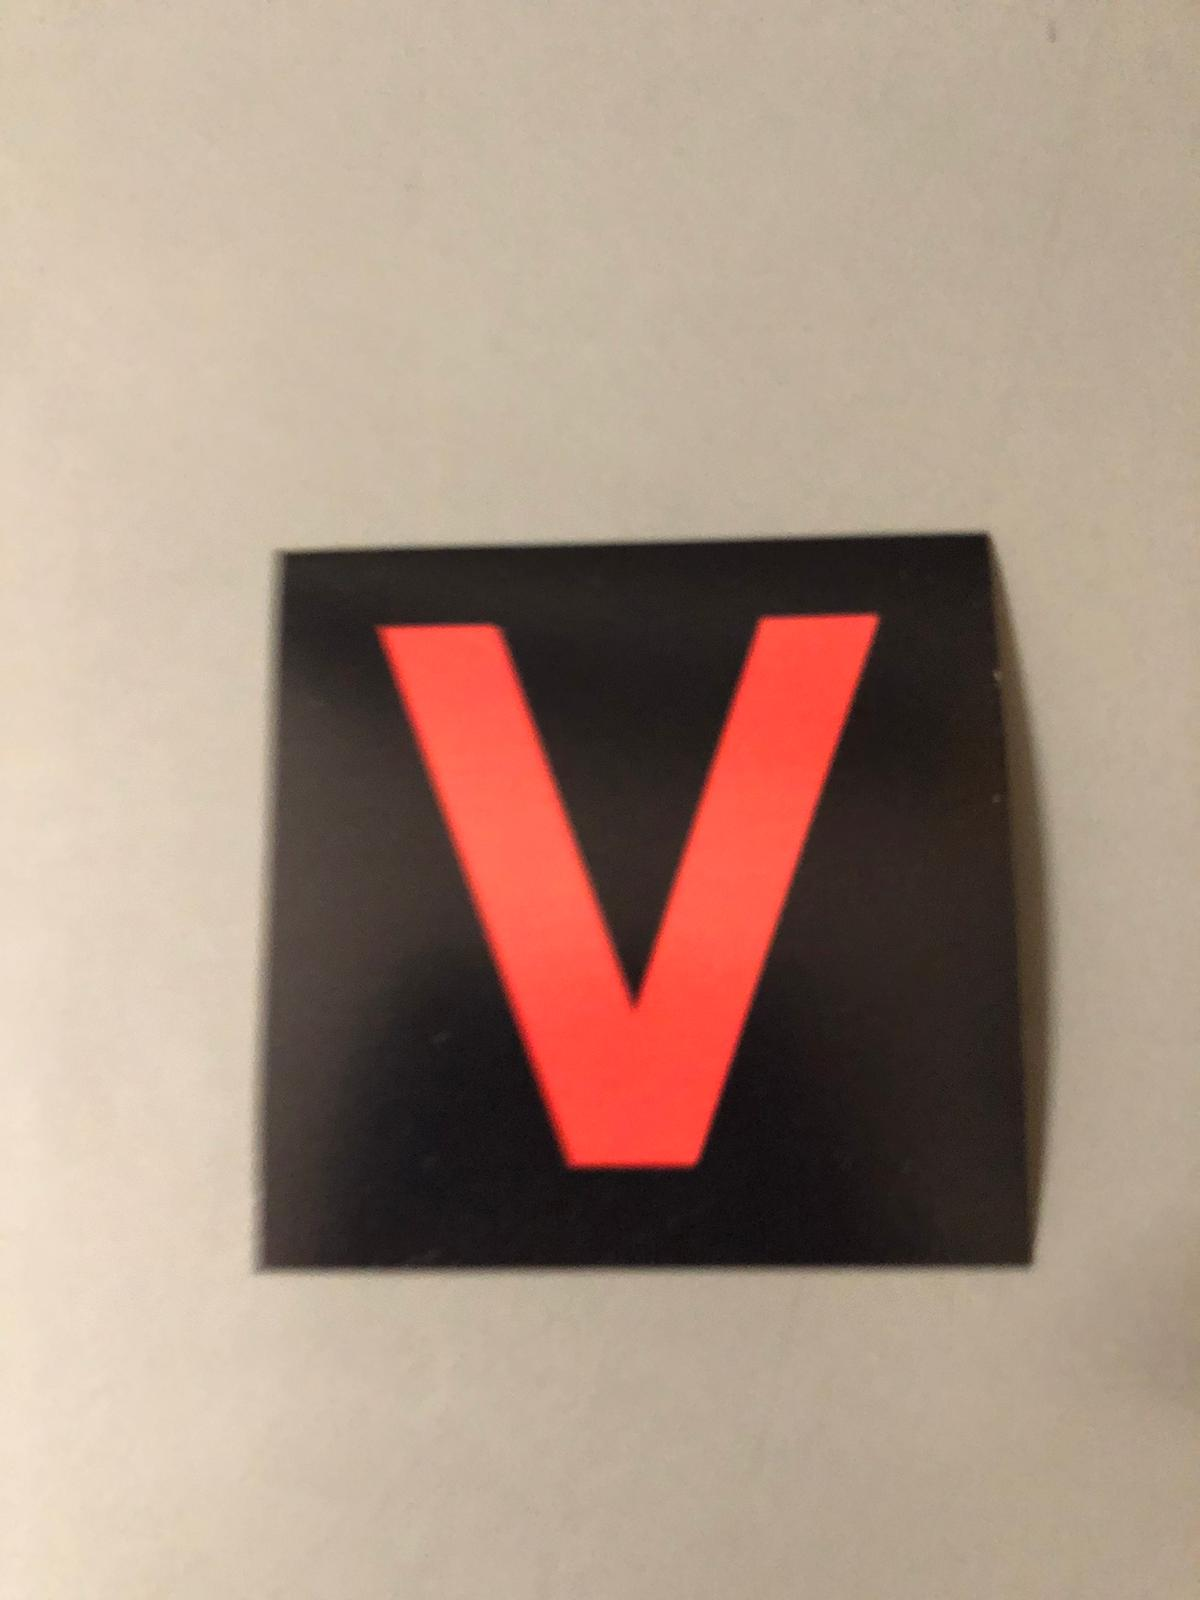V: (286, 577, 1000, 1222)
